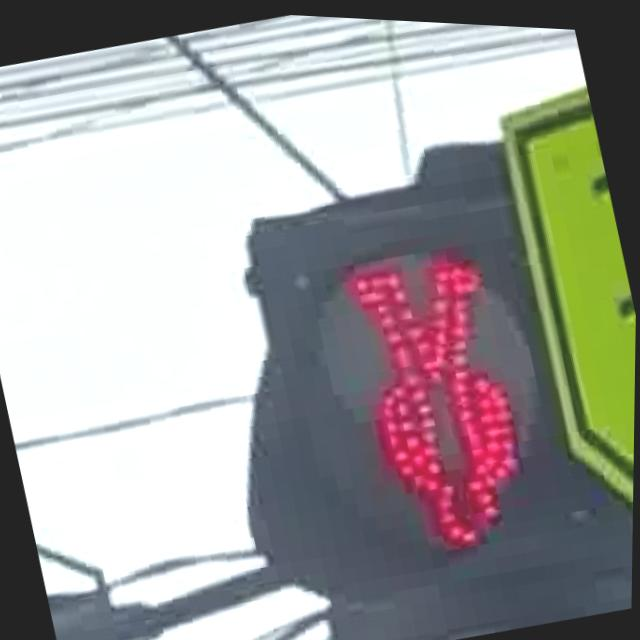red_light: (301, 215, 569, 588)
